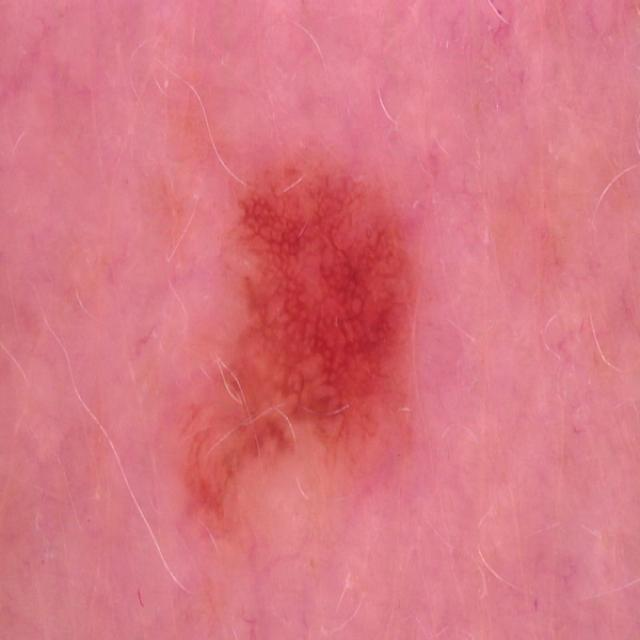NV: (154, 141, 423, 558)
